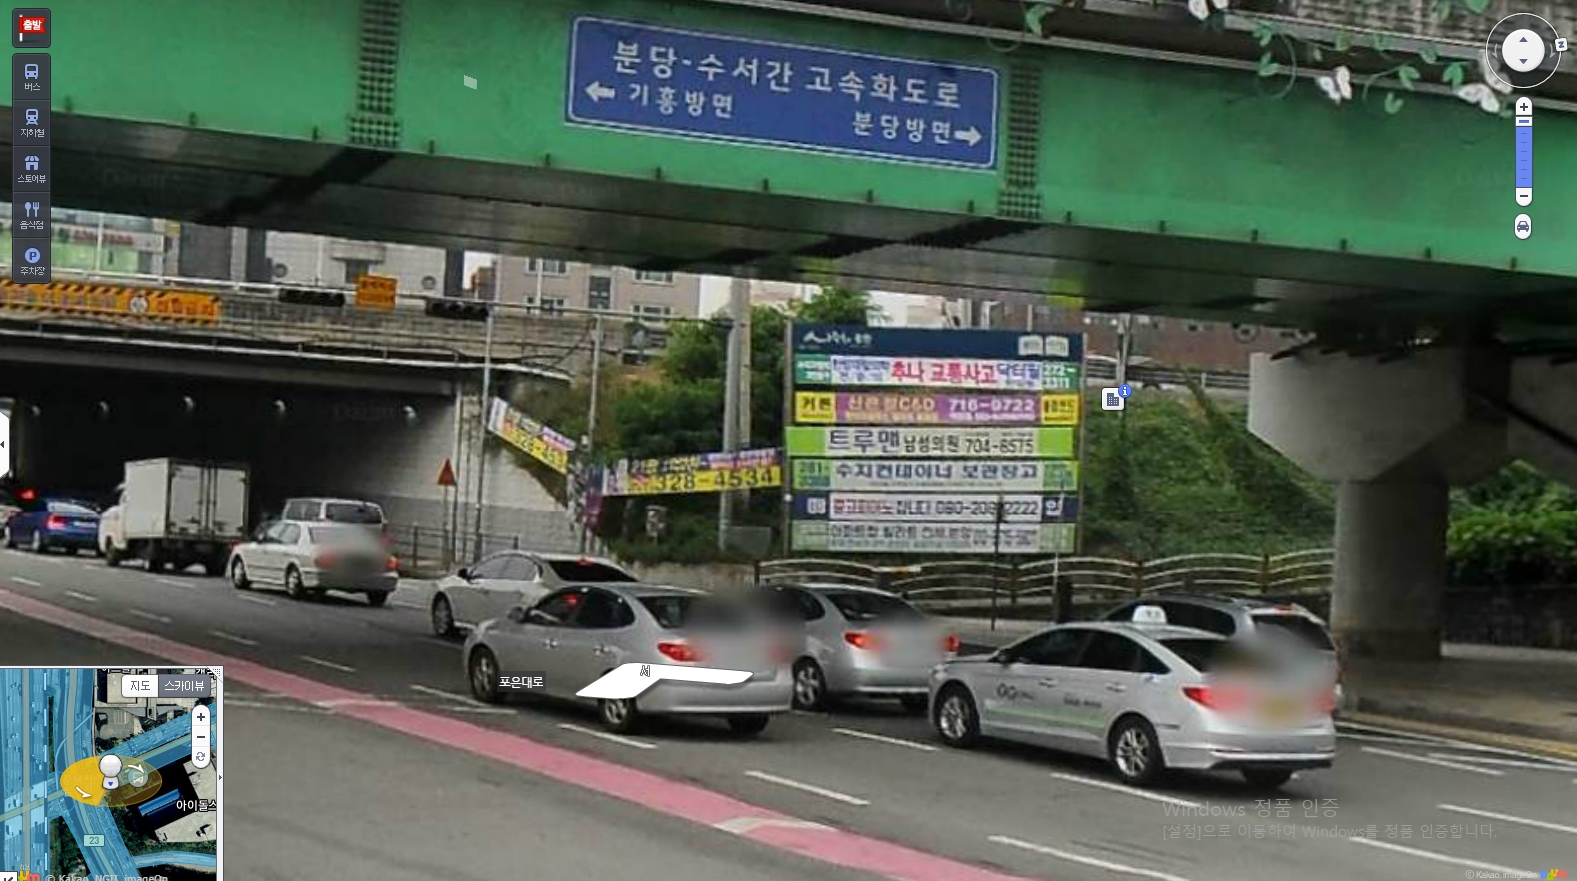banner: (787, 511, 1080, 569), (792, 346, 1079, 401), (774, 419, 1087, 465), (782, 479, 1080, 524), (785, 387, 1093, 426), (612, 436, 777, 506), (787, 459, 1089, 497), (472, 394, 588, 474)
